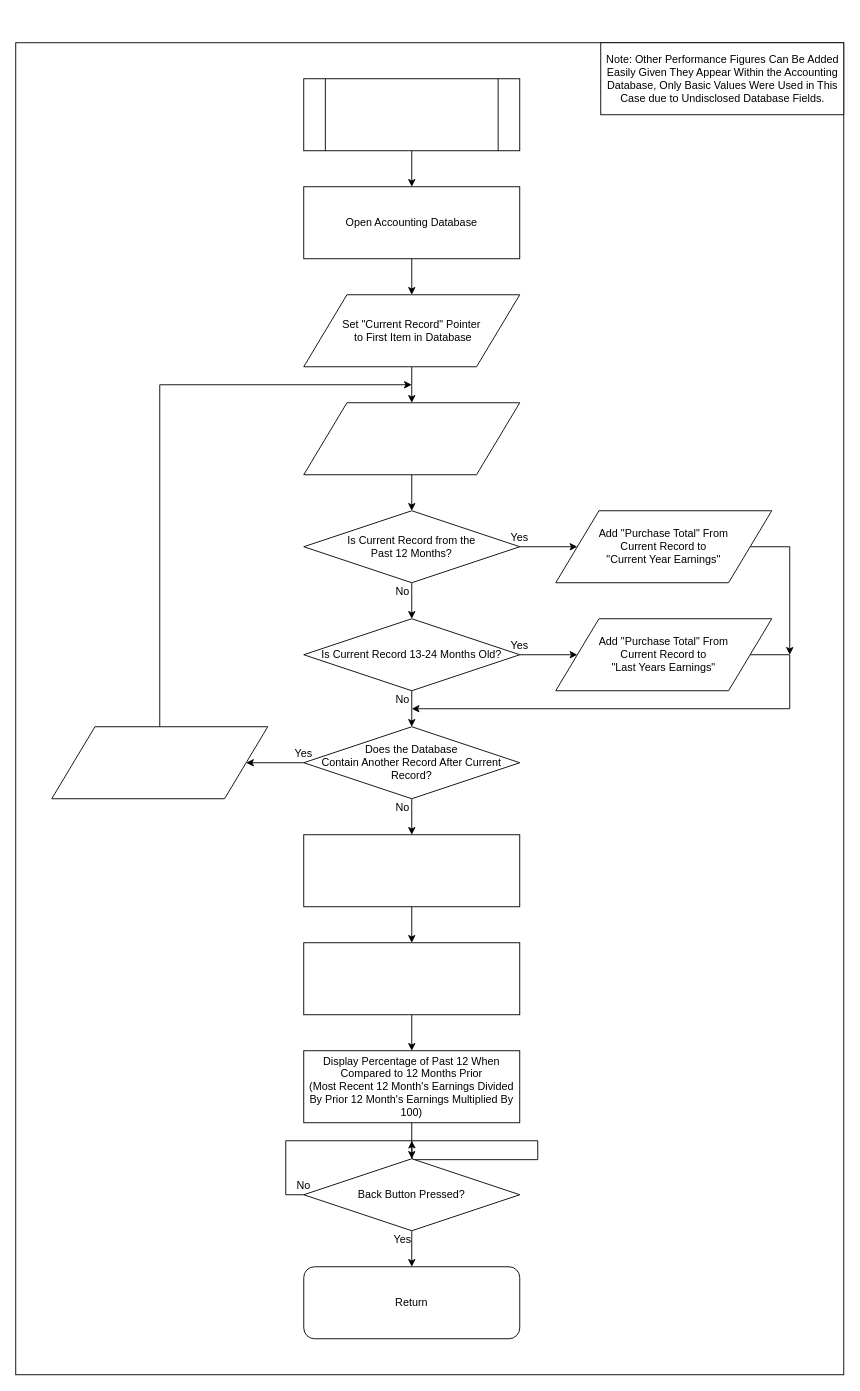
The diagram is 860 pixels wide and 1391 high, and some of its shapes have lost their labels. The shapes that lost their labels are listed below. From the top down, each one's centre as x and y in pixels, then its label:
the point at 411,114: Reports and Analysis
the point at 411,438: Add "Purchase Total" From Current Record to "Total Earnings"
the point at 159,762: Set "Current Record" Pointer to Next Item in Database
the point at 411,870: Display Total Earnings
the point at 411,978: Display Earnings From Past 12 Months
